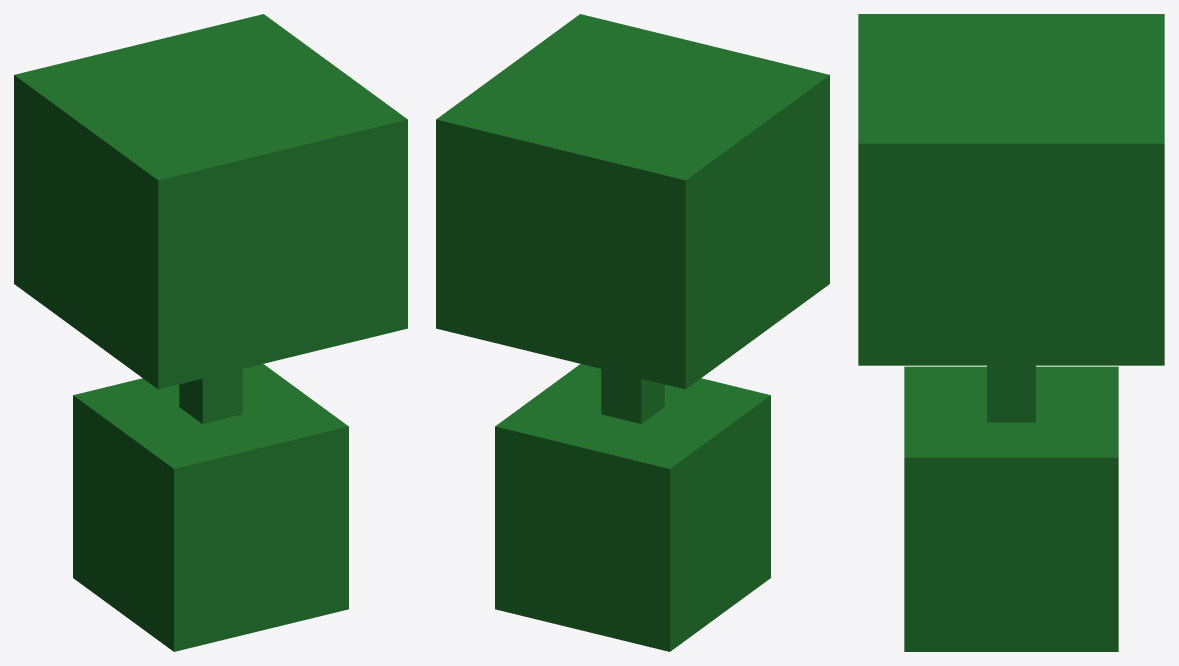
File: furniture-plant.glb
3 renders of one model, left to right at view 1: azimuth 30°, elevation 25°; view 2: azimuth 150°, elevation 25°; view 3: azimuth 270°, elevation 25°, orthographic. The views are drawn at different scales.
Parts seen in each view (by area): view 1: plant_leaves, plant_pot, plant_stem; view 2: plant_leaves, plant_pot, plant_stem; view 3: plant_leaves, plant_pot, plant_stem.
Boxes of the visible parts, box(x1,y1,x2,y2) form: plant_leaves: box(14, 14, 407, 389); plant_pot: box(73, 364, 348, 651); plant_stem: box(179, 369, 242, 423); plant_leaves: box(436, 14, 829, 389); plant_pot: box(495, 364, 770, 651); plant_stem: box(601, 369, 664, 423); plant_leaves: box(858, 14, 1164, 365); plant_pot: box(904, 366, 1118, 651); plant_stem: box(987, 365, 1035, 422).
Size of the model in its own units: 0.5 by 0.9505 by 0.5.
